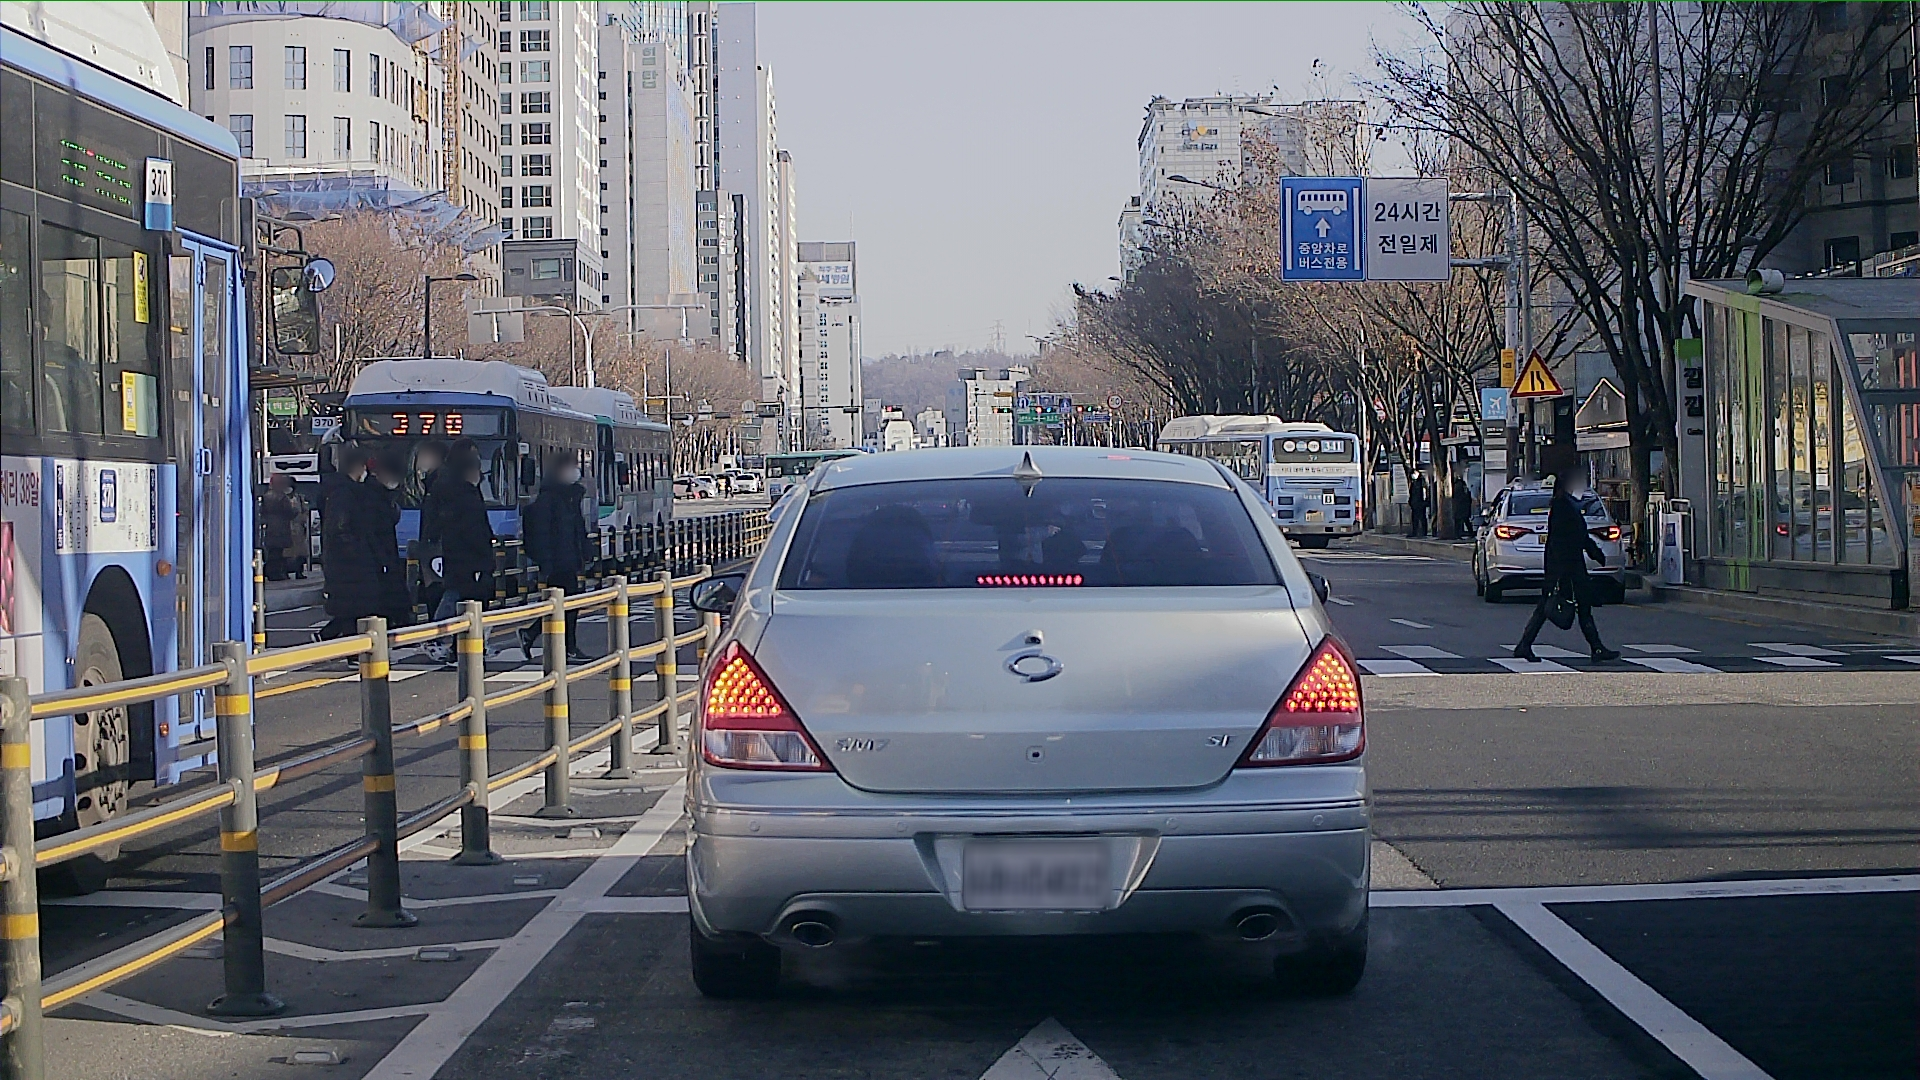trafficLight: (984, 401, 1108, 418)
trafficSignTri: (1513, 349, 1560, 401)
